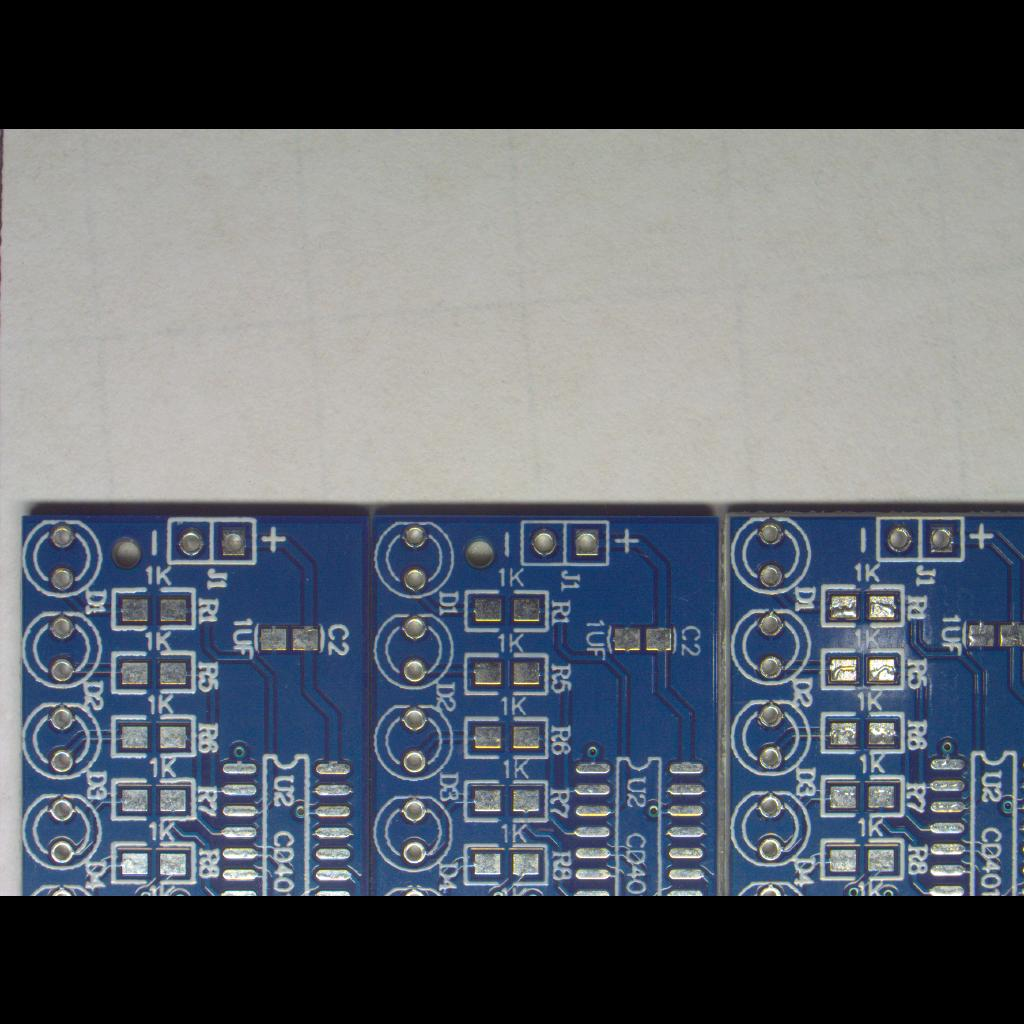NG: (563, 746, 715, 896), (214, 744, 360, 896), (921, 744, 1024, 896), (106, 645, 204, 699), (105, 712, 203, 762), (816, 581, 908, 633), (458, 584, 552, 634), (816, 707, 910, 757), (459, 712, 551, 762), (817, 771, 907, 821), (108, 584, 200, 632), (106, 774, 198, 822), (816, 645, 908, 693), (108, 840, 198, 888), (459, 840, 549, 888), (460, 650, 552, 696), (462, 776, 550, 824), (818, 836, 908, 882), (954, 610, 1024, 662), (244, 616, 328, 658), (602, 623, 682, 659)
